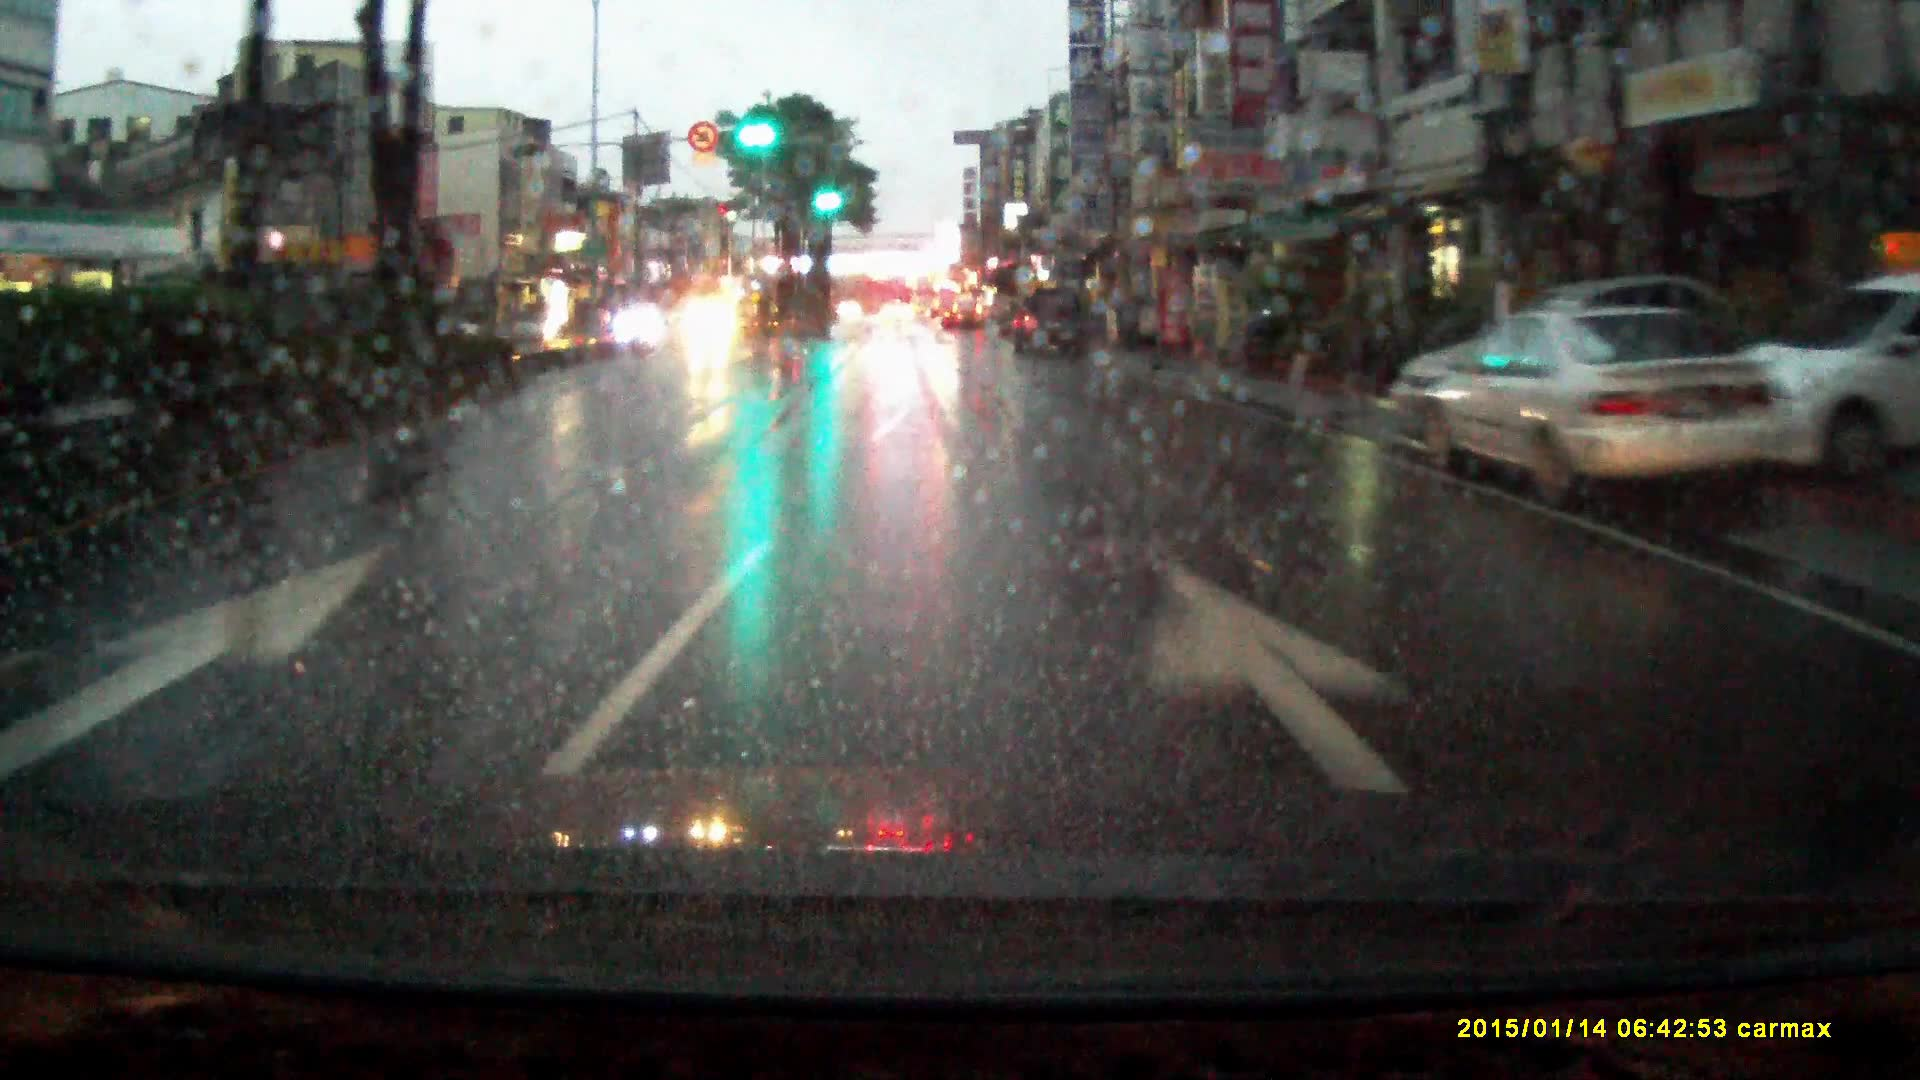vehicle: (1425, 309, 1782, 516), (1743, 274, 1920, 491), (1013, 284, 1095, 360), (676, 301, 744, 352), (491, 310, 556, 349), (615, 305, 669, 348), (911, 273, 943, 322), (943, 295, 985, 331), (881, 301, 918, 324)
